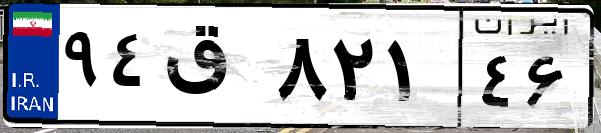1: (385, 28, 445, 110)
2: (330, 28, 385, 110)
4: (475, 38, 525, 113), (110, 28, 158, 98)
6: (525, 38, 570, 115)
8: (270, 28, 330, 110)
9: (57, 26, 110, 100)
ق: (158, 20, 270, 120)
